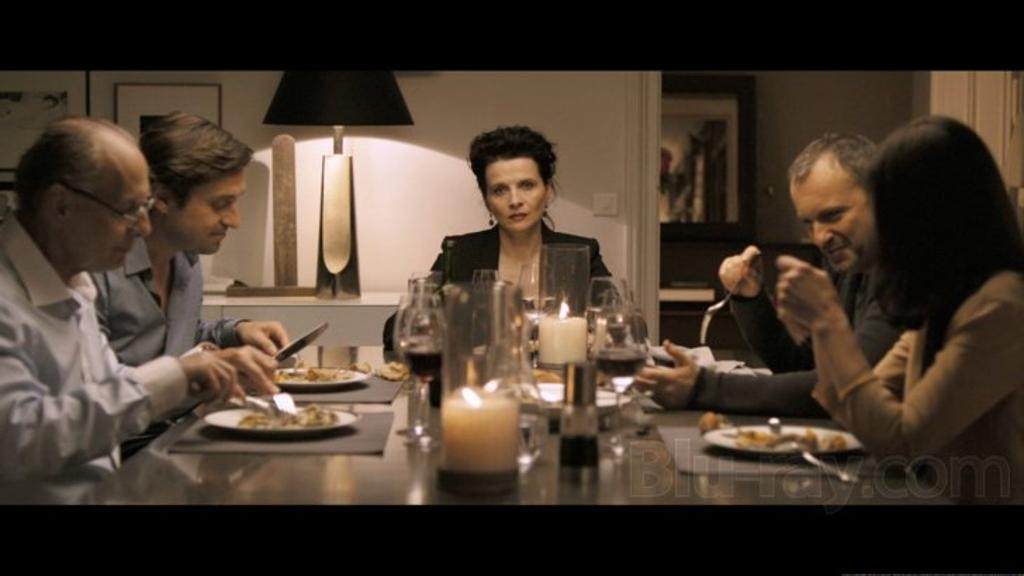face: (82, 172, 156, 268), (796, 168, 868, 266), (184, 158, 246, 256), (490, 158, 542, 238)
